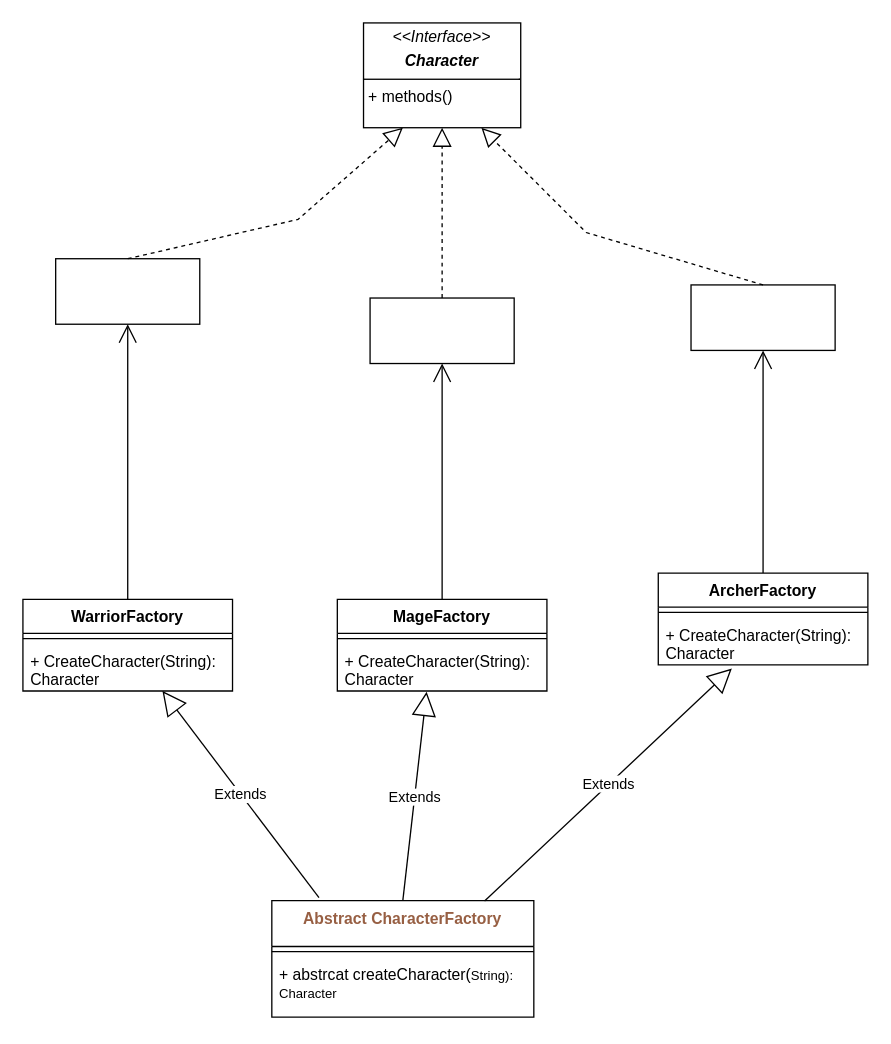
The diagram is 891 pixels wide and 1044 high, and some of its shapes have lost their labels. Each missing label, with the centre of its shape:
"Archer" belongs at (762,317).
"Mage" belongs at (441,330).
"Warrior" belongs at (127,290).
